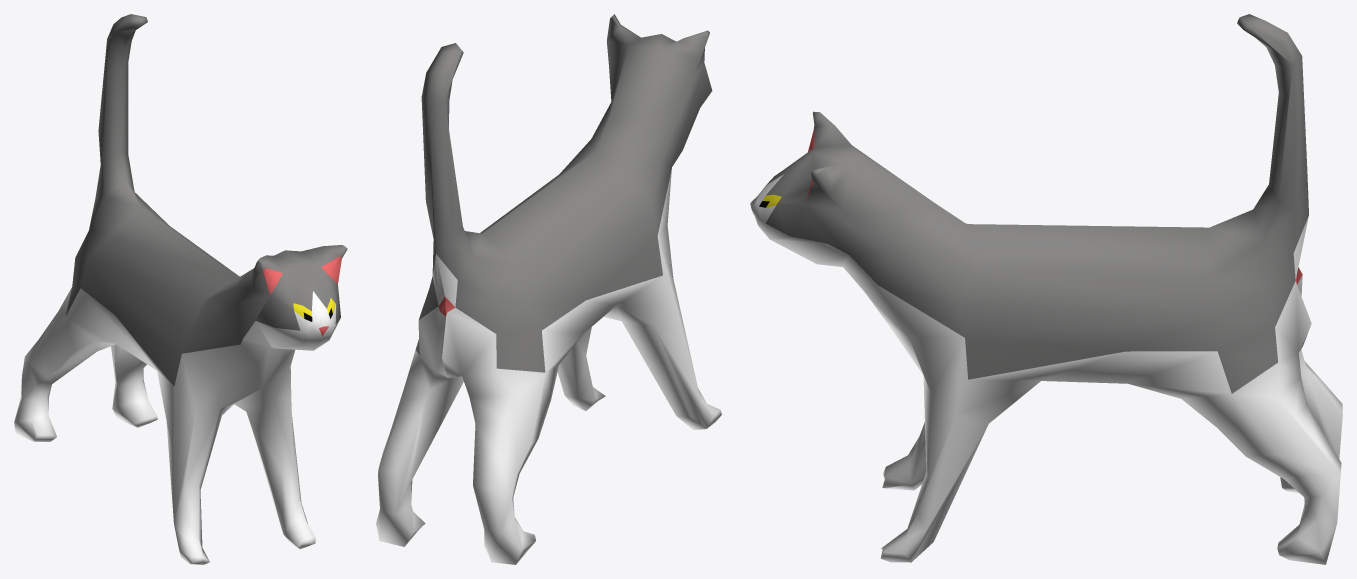
Rendered from Dean.gltf.
The picture shows the model from 3 angles, left to right: view 1: azimuth 30°, elevation 25°; view 2: azimuth 150°, elevation 25°; view 3: azimuth 270°, elevation 25°; orthographic projection. The views are drawn at different scales.
Visible parts, largest first — view 1: Dean; view 2: Dean; view 3: Dean.
Part boxes in pixels (x1,y1,x2,y2): Dean: (14, 14, 347, 564); Dean: (376, 14, 721, 564); Dean: (750, 14, 1342, 564).
Size of the model in its own units: 0.2473 by 0.7495 by 0.7587.
Materials: 1 (1 with a texture image).
